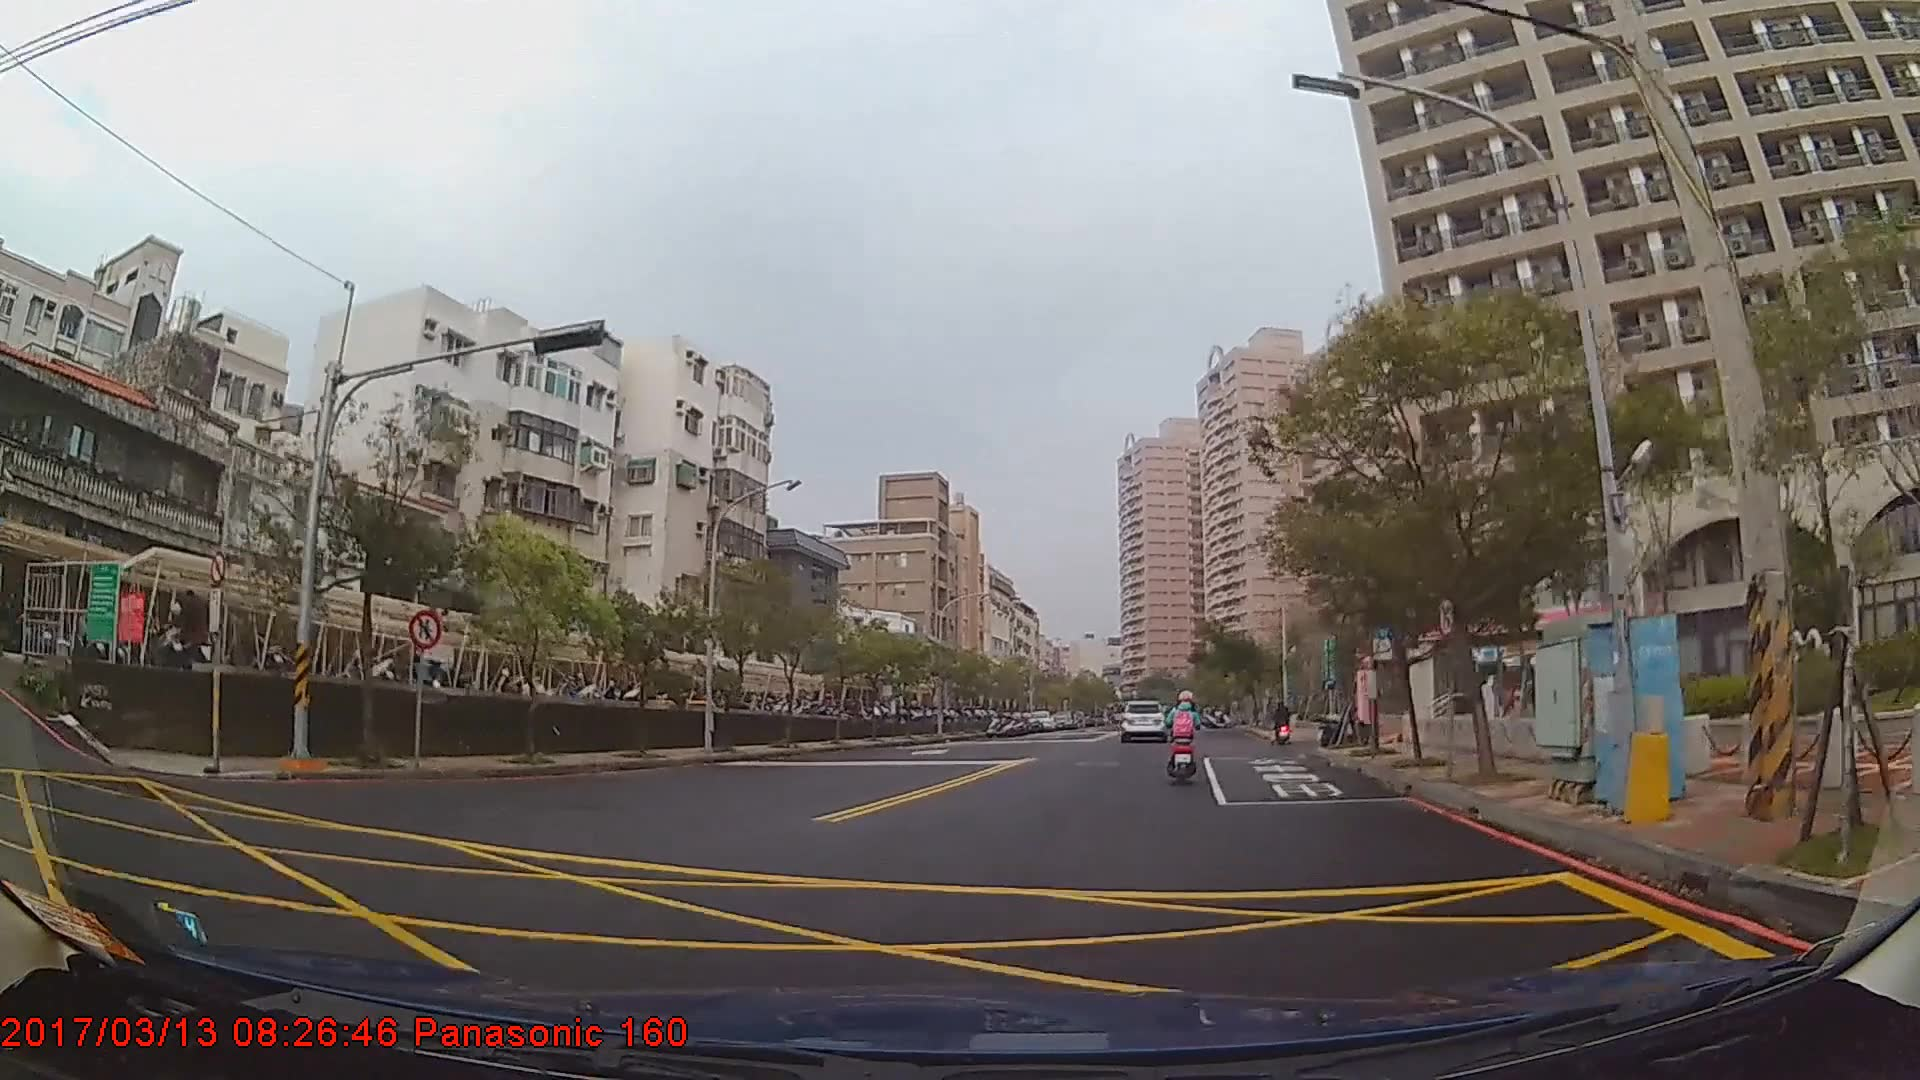rider: (1163, 690, 1207, 782), (1273, 702, 1293, 740)
vehicle: (1118, 696, 1167, 740)
